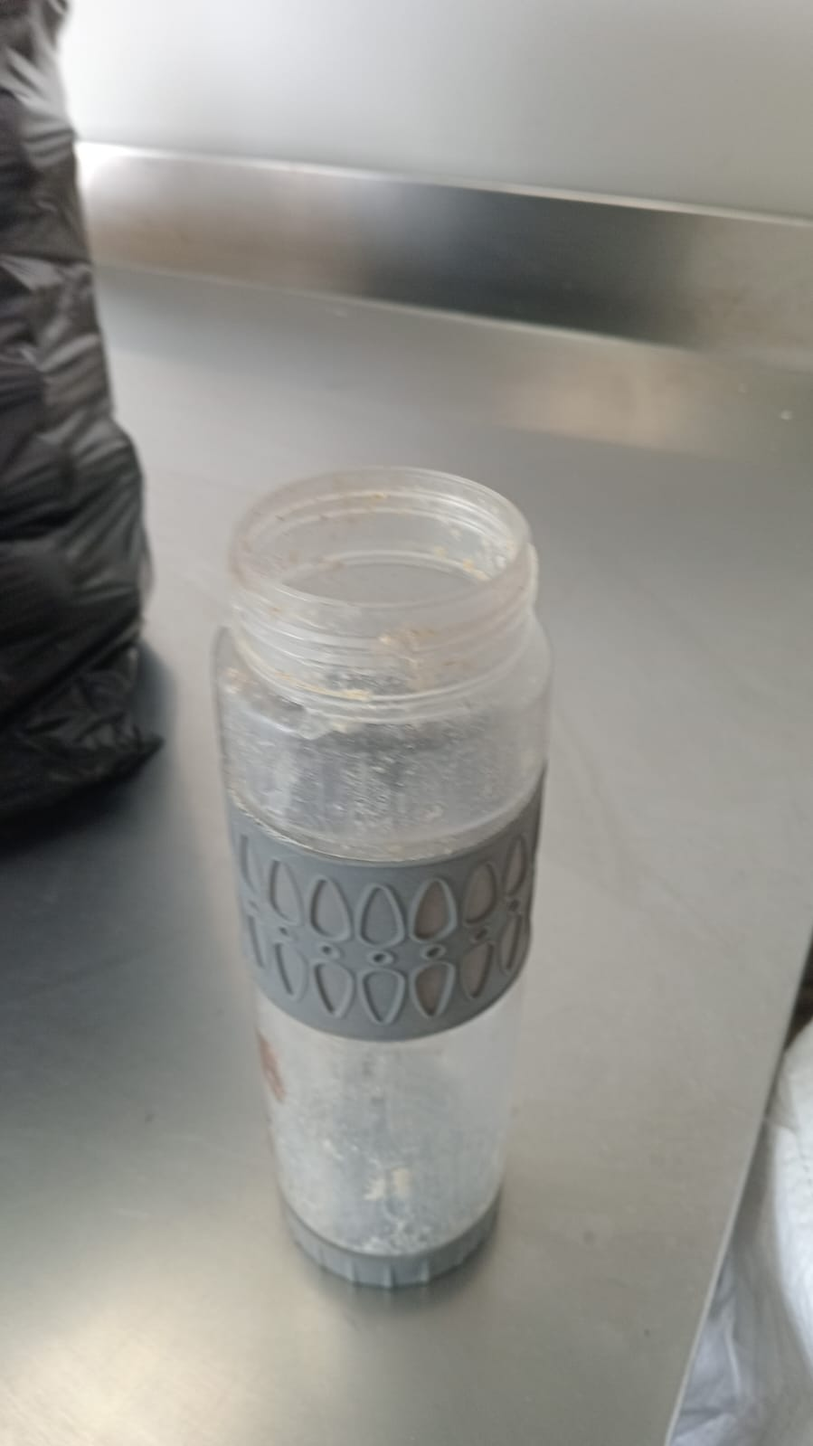Plastico: (210, 470, 549, 1291)
